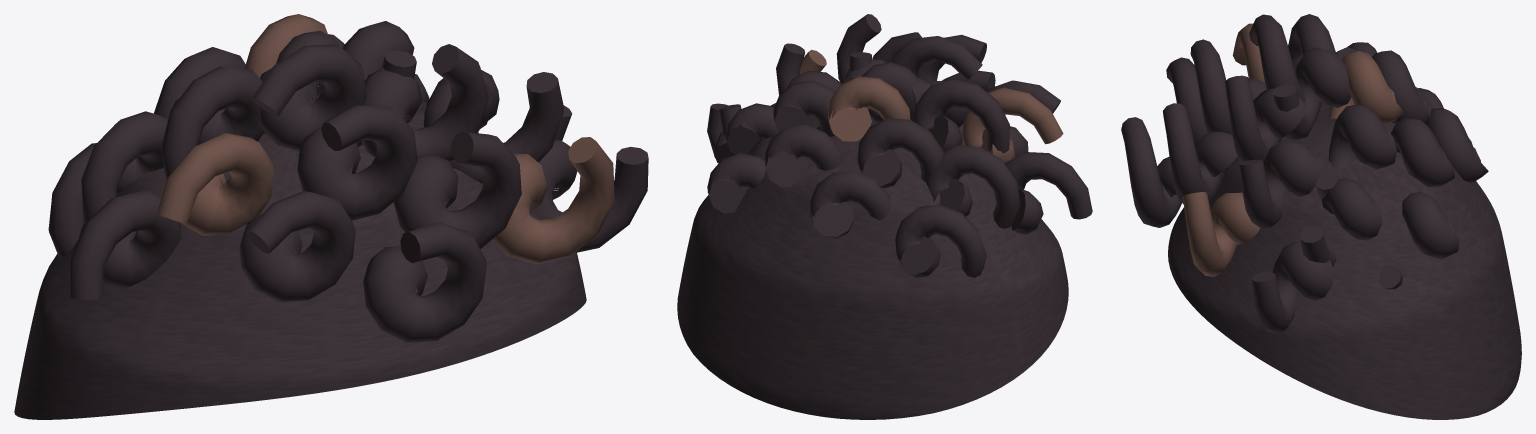
Rendered from hair_curly_default.gltf.
The picture shows the model from 3 angles, left to right: view 1: azimuth 30°, elevation 25°; view 2: azimuth 150°, elevation 25°; view 3: azimuth 270°, elevation 25°; orthographic projection. The views are drawn at different scales.
Parts seen in each view (by area): view 1: Cloud Curls default; view 2: Cloud Curls default; view 3: Cloud Curls default.
Part boxes in pixels (x1,y1,x2,y2): Cloud Curls default: (14,14,648,419); Cloud Curls default: (677,14,1092,419); Cloud Curls default: (1121,14,1521,419).
Size of the model in its own units: 0.5213 by 0.3838 by 0.4224.
2 materials, 2 textured.
